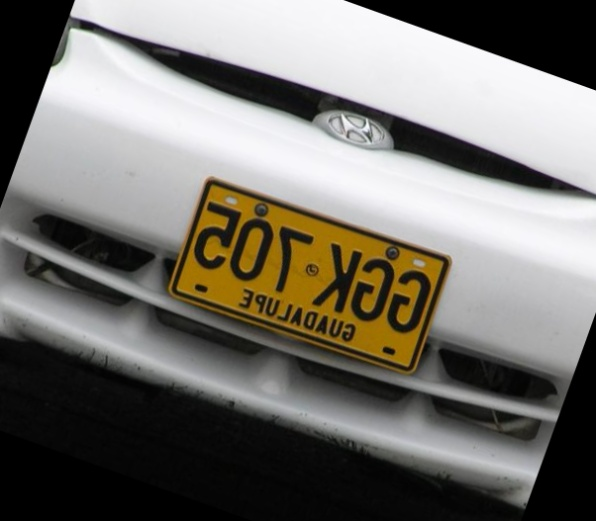placas: (160, 165, 461, 387)
